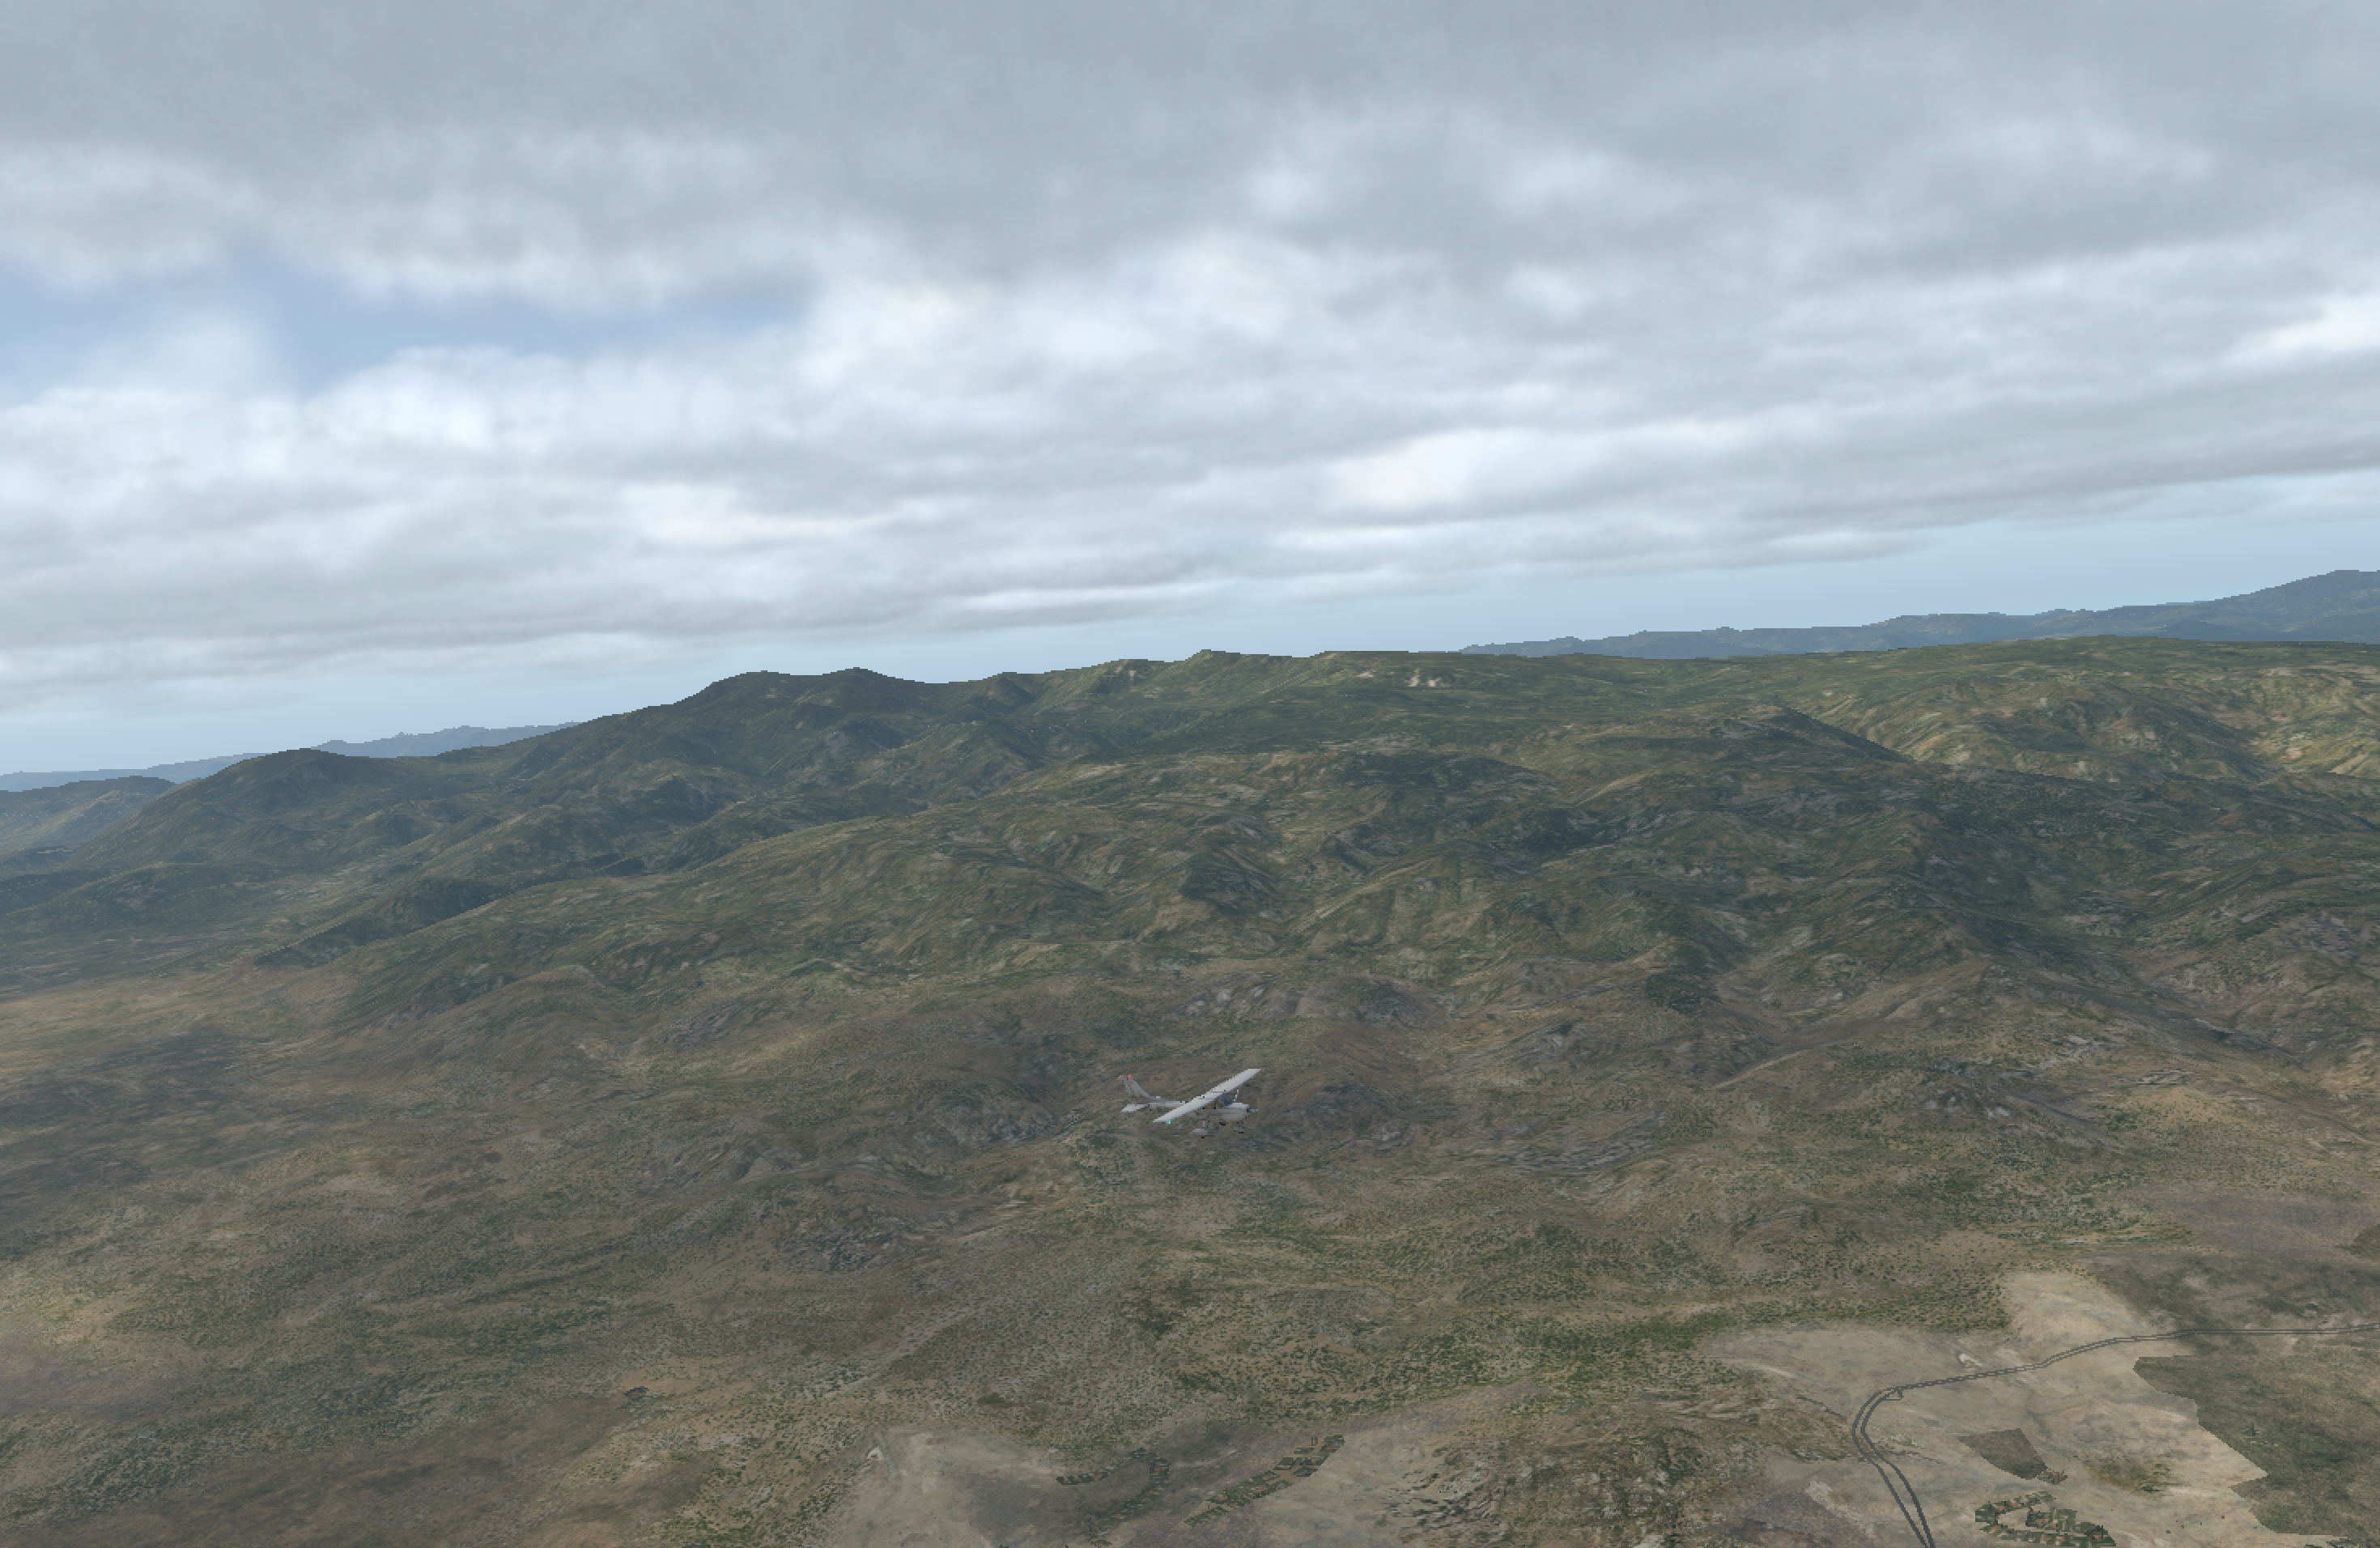aircraft: (1143, 1079, 1289, 1135)
